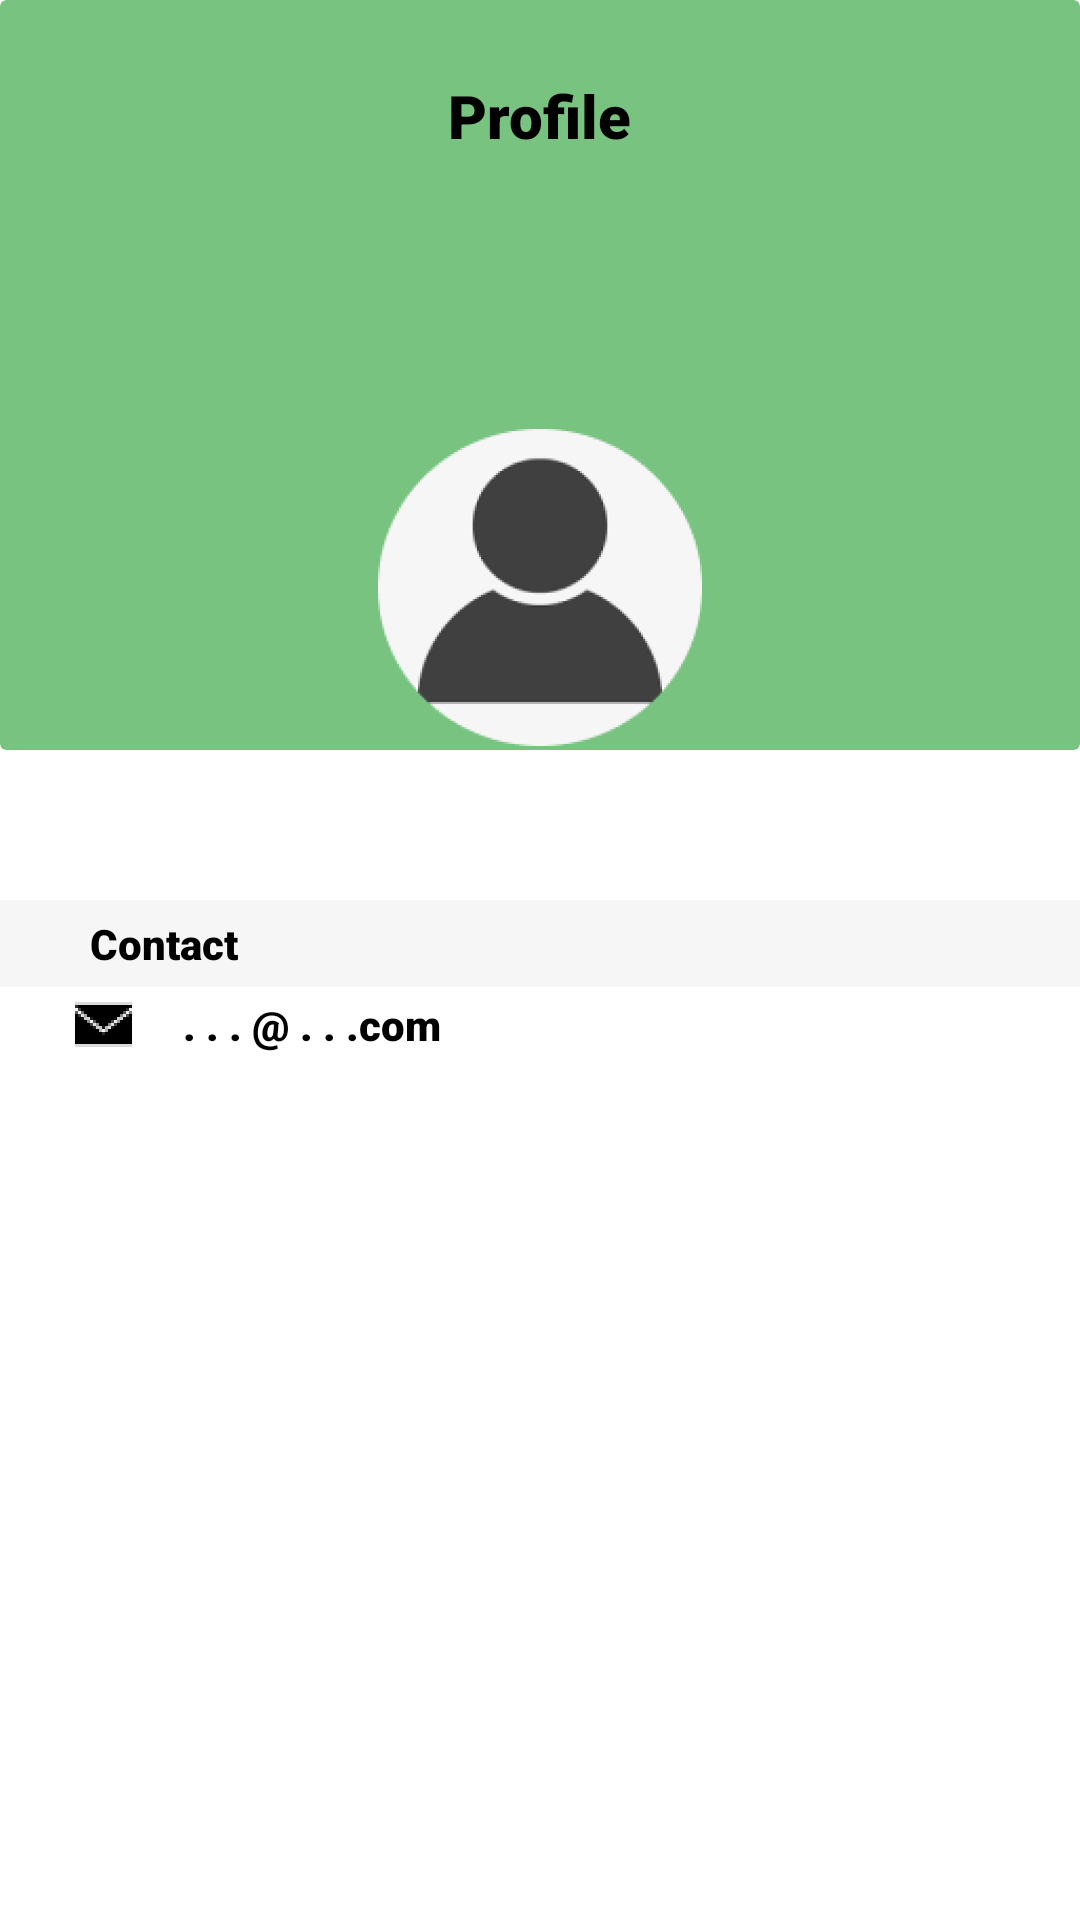

Where icons sit on this 1080 × 1920 app screen, as Rect(x1, y1, x2, y2):
user profile: Rect(378, 429, 702, 746)
